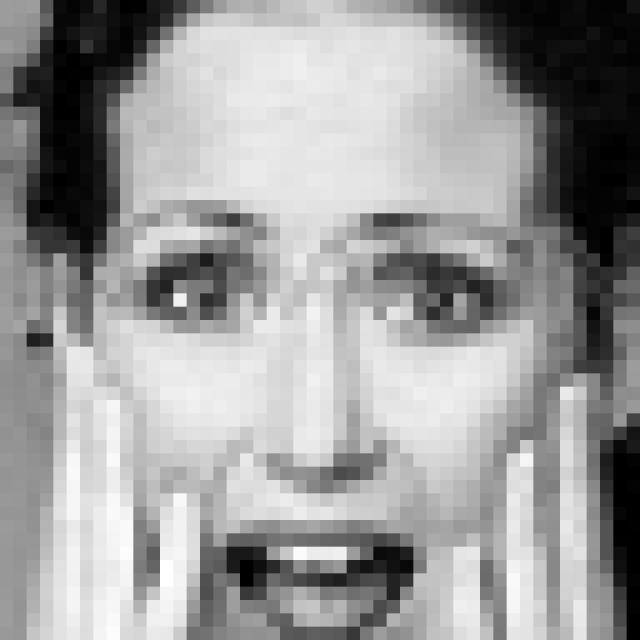fear: (113, 193, 540, 640)
